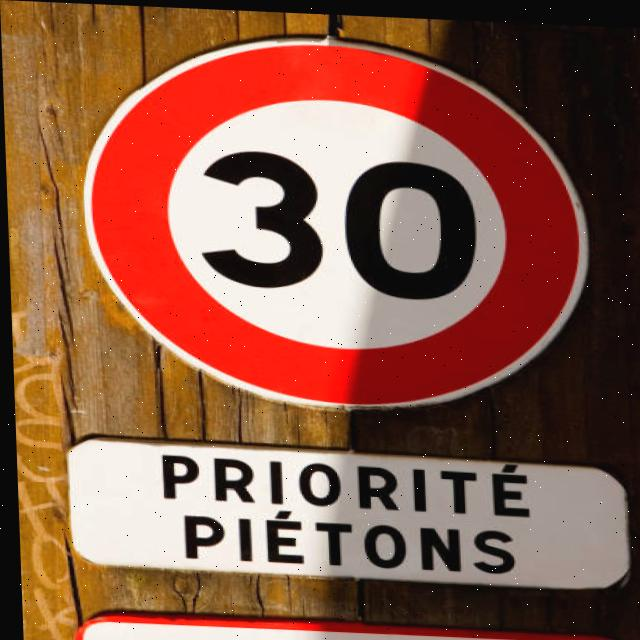Speed limit 30: (74, 24, 596, 417)
